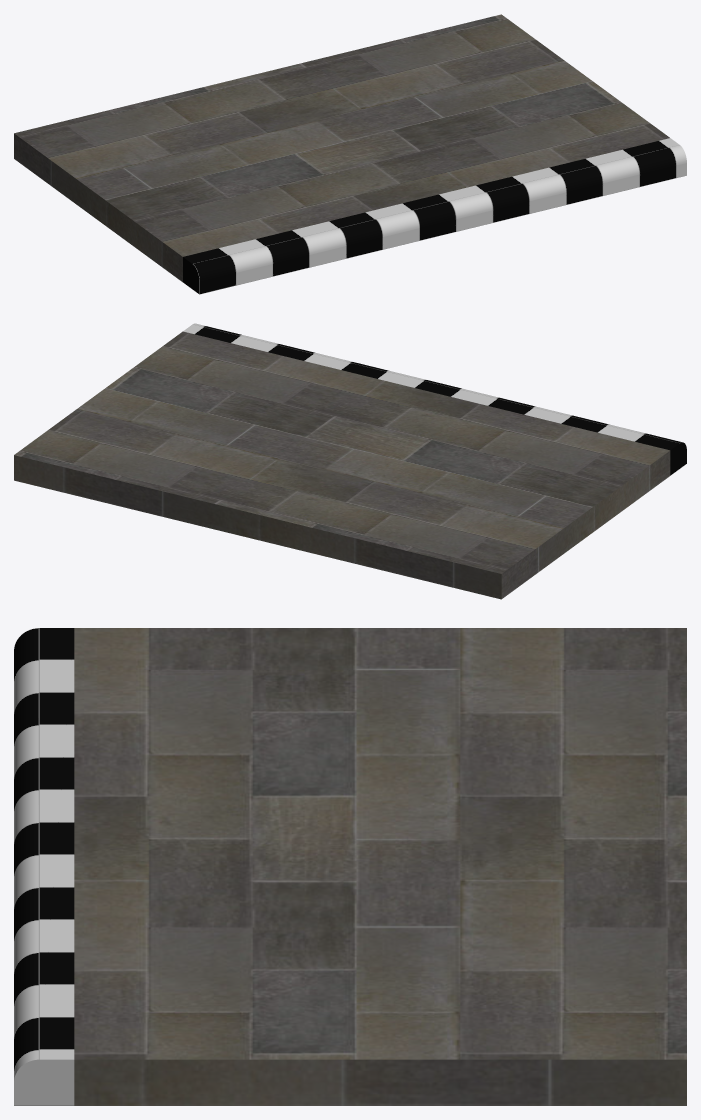
Rendered from trotoar.glb.
3 renders of one model, top to bottom at view 1: azimuth 30°, elevation 25°; view 2: azimuth 150°, elevation 25°; view 3: azimuth 270°, elevation 25°, orthographic. The views are drawn at different scales.
Visible parts, largest first — view 1: Object_2, Object_3; view 2: Object_2, Object_3; view 3: Object_2, Object_3.
Boxes of the visible parts, x1=… form: Object_2: x1=14, y1=14, x2=669, y2=282; Object_3: x1=183, y1=138, x2=686, y2=294; Object_2: x1=14, y1=331, x2=670, y2=599; Object_3: x1=183, y1=323, x2=686, y2=475; Object_2: x1=74, y1=628, x2=686, y2=1105; Object_3: x1=14, y1=628, x2=74, y2=1105.
Size of the model in its own units: 2 by 0.1 by 1.32.
Materials: 2 (2 with a texture image).
